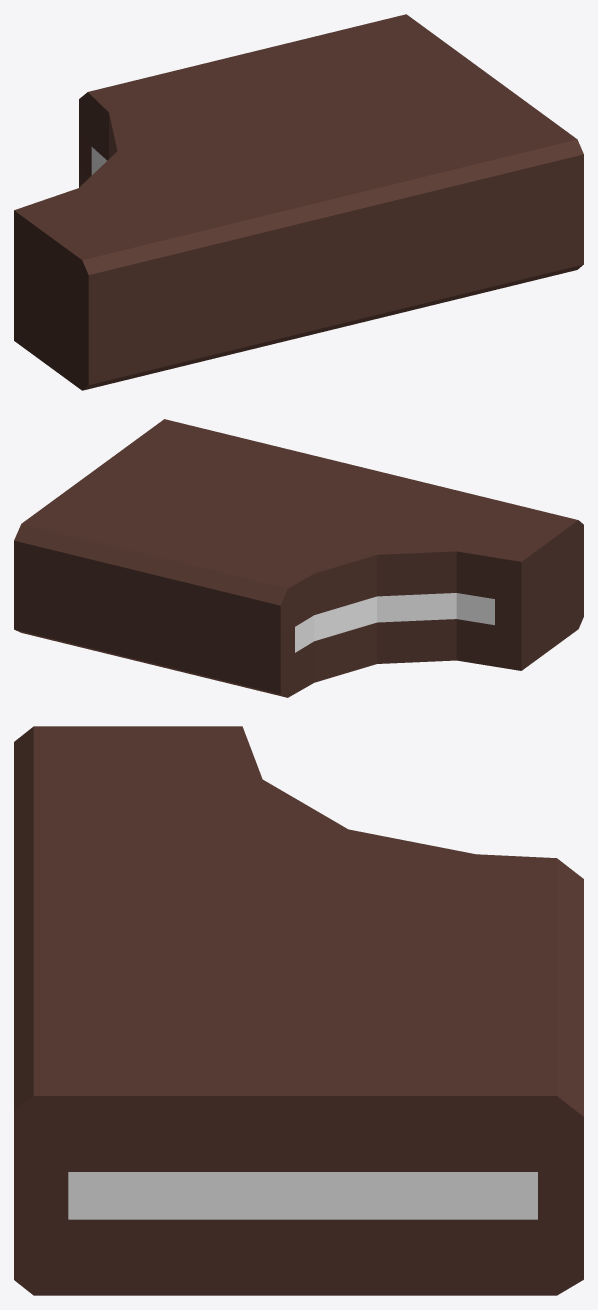
The model's file is iceCream1.fbx.
3 renders of one model, top to bottom at view 1: azimuth 30°, elevation 25°; view 2: azimuth 150°, elevation 25°; view 3: azimuth 270°, elevation 25°, orthographic. The views are drawn at different scales.
Visible parts, largest first — view 1: Cube; view 2: Cube; view 3: Cube.
Part boxes in pixels (x1,y1,x2,y2): Cube: [14, 14, 583, 390]; Cube: [14, 419, 583, 697]; Cube: [14, 726, 583, 1295].
Size of the model in its own units: 307 by 77.28 by 200.
